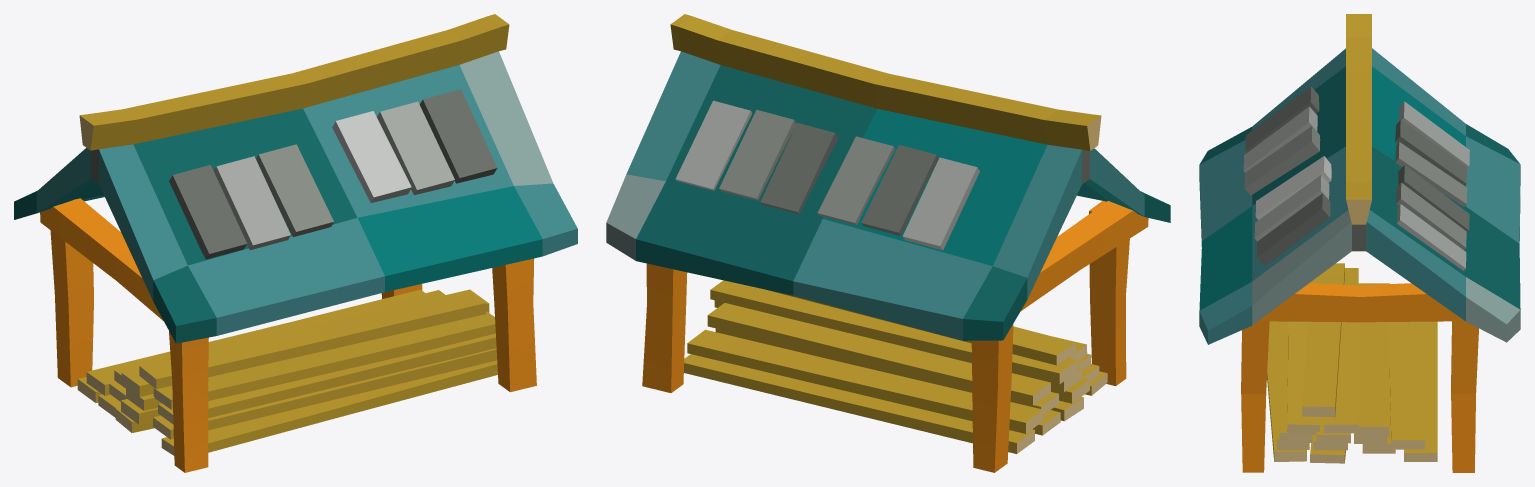
File: logstore_blue.fbx
3 renders of one model, left to right at view 1: azimuth 30°, elevation 25°; view 2: azimuth 150°, elevation 25°; view 3: azimuth 270°, elevation 25°, orthographic. The views are drawn at different scales.
Visible parts, largest first — view 1: log_storage2; view 2: log_storage2; view 3: log_storage2.
Boxes of the visible parts, x1=… form: log_storage2: x1=14, y1=14, x2=577, y2=472; log_storage2: x1=606, y1=14, x2=1170, y2=472; log_storage2: x1=1199, y1=14, x2=1520, y2=472.
Size of the model in its own units: 26.48 by 19.06 by 19.38.
